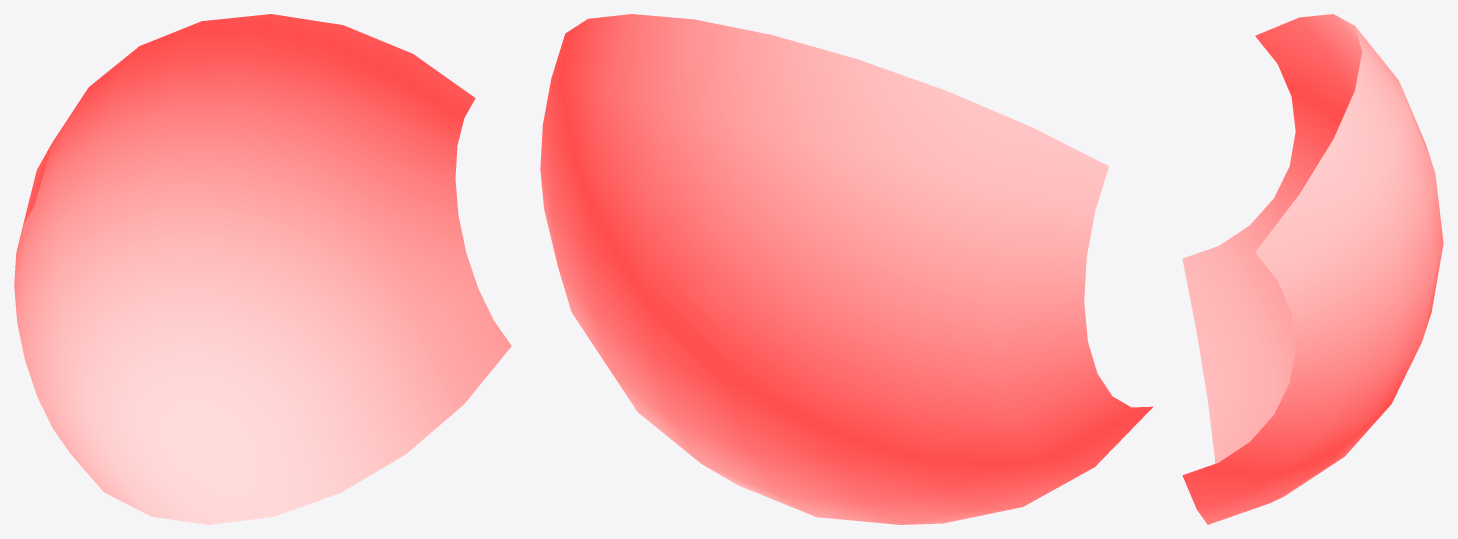
File: VisualCurvedPlane.fbx
The picture shows the model from 3 angles, left to right: view 1: azimuth 30°, elevation 25°; view 2: azimuth 150°, elevation 25°; view 3: azimuth 270°, elevation 25°; orthographic projection. The views are drawn at different scales.
Visible parts, largest first — view 1: ETFX_CurvedPlane; view 2: ETFX_CurvedPlane; view 3: ETFX_CurvedPlane.
Part boxes in pixels (x1,y1,x2,y2): ETFX_CurvedPlane: (14, 14, 511, 524); ETFX_CurvedPlane: (540, 14, 1153, 524); ETFX_CurvedPlane: (1182, 14, 1443, 524).
Bounding box in the file's own units: 1735 × 1664 × 884.
